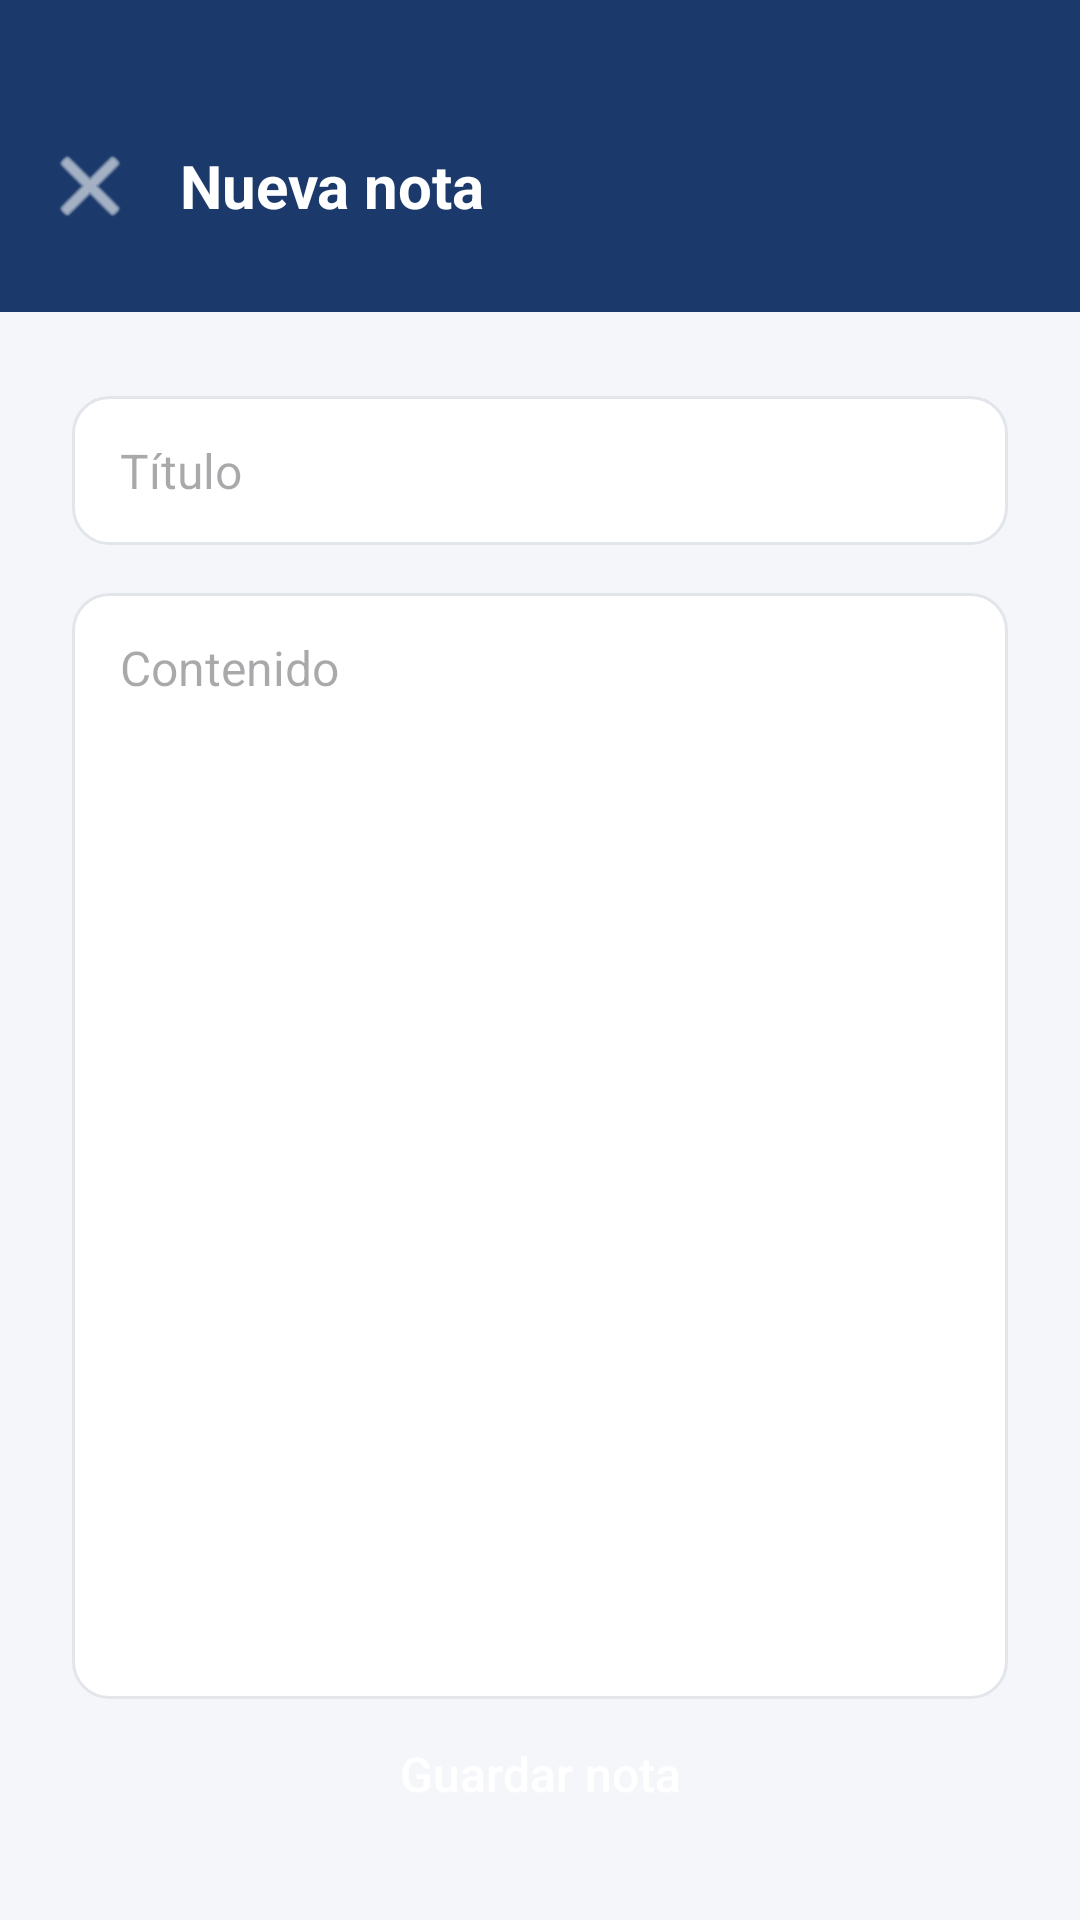

Named icons in this screenshot (1080×1920) and their bounding boxes, detection(x1, y1, x2, y2):
Volver: detection(60, 156, 120, 216)
